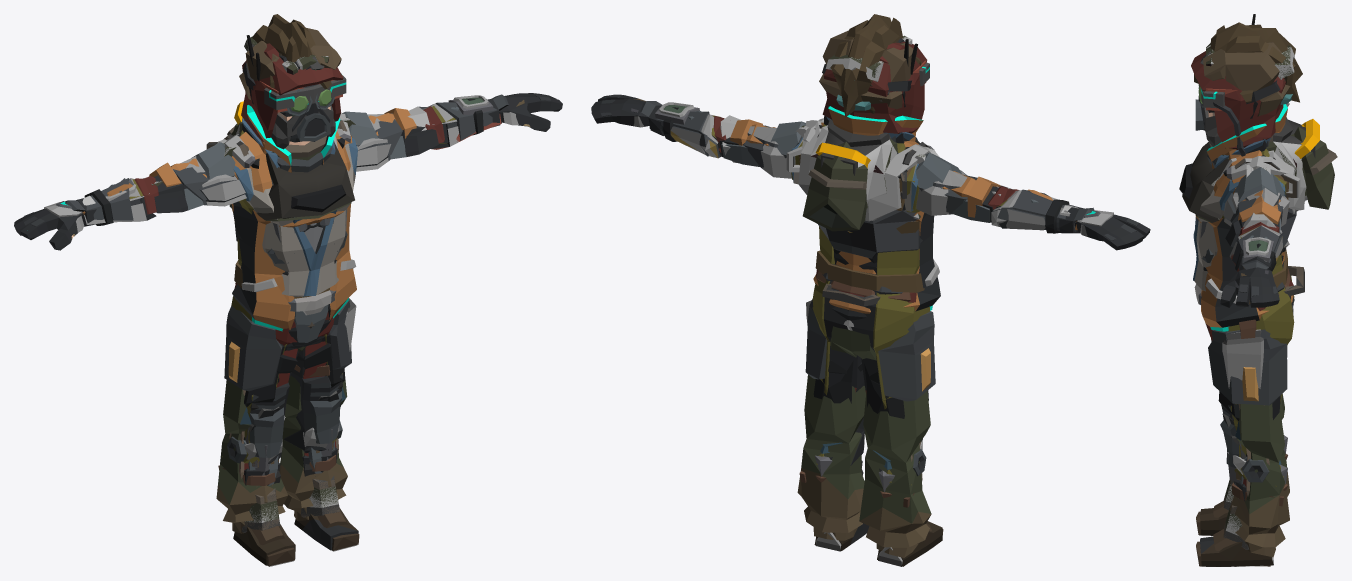
Rendered from Zoe_Survival_Characters.fbx.
The picture shows the model from 3 angles, left to right: view 1: azimuth 30°, elevation 25°; view 2: azimuth 150°, elevation 25°; view 3: azimuth 270°, elevation 25°; orthographic projection.
Visible parts, largest first — view 1: Character_Garbage_Male_01, Character_Muscle_Male_01, Character_Cop_01, Character_CyberPunk_Male_01, Character_Junky_Male_01, Character_Augmented_Male_01, Character_Robot_04, Character_Robot_02, Character_Hacker_Female_01, Character_Robot_01; view 2: Character_Junky_Male_01, Character_Garbage_Male_01, Character_Cop_01, Character_CyberPunk_Male_01, Character_Muscle_Male_01, Character_Augmented_Male_01, Character_Robot_02, Character_Robot_01, Character_Hacker_Female_01; view 3: Character_Garbage_Male_01, Character_Junky_Male_01, Character_CyberPunk_Male_01, Character_Cop_01, Character_Augmented_Male_01, Character_Muscle_Male_01, Character_Robot_02, Character_Robot_01, Character_Robot_04, Character_Hacker_Female_01, Character_Robot_03.
Part boxes in pixels (bbox=[...]): Character_Garbage_Male_01: bbox=[14, 28, 562, 565]; Character_Muscle_Male_01: bbox=[24, 56, 549, 478]; Character_Cop_01: bbox=[65, 35, 508, 485]; Character_CyberPunk_Male_01: bbox=[82, 53, 493, 566]; Character_Junky_Male_01: bbox=[71, 43, 530, 533]; Character_Augmented_Male_01: bbox=[44, 14, 551, 566]; Character_Robot_04: bbox=[257, 141, 354, 220]; Character_Robot_02: bbox=[82, 36, 524, 531]; Character_Hacker_Female_01: bbox=[235, 73, 346, 461]; Character_Robot_01: bbox=[143, 40, 349, 532]; Character_Junky_Male_01: bbox=[688, 41, 1038, 566]; Character_Garbage_Male_01: bbox=[591, 30, 1150, 566]; Character_Cop_01: bbox=[640, 39, 1094, 418]; Character_CyberPunk_Male_01: bbox=[655, 41, 1077, 475]; Character_Muscle_Male_01: bbox=[601, 91, 1138, 480]; Character_Augmented_Male_01: bbox=[601, 14, 1113, 566]; Character_Robot_02: bbox=[634, 35, 932, 300]; Character_Robot_01: bbox=[649, 37, 1009, 330]; Character_Hacker_Female_01: bbox=[816, 60, 1069, 563]; Character_Garbage_Male_01: bbox=[1195, 42, 1294, 566]; Character_Junky_Male_01: bbox=[1191, 51, 1293, 566]; Character_CyberPunk_Male_01: bbox=[1199, 79, 1307, 566]; Character_Cop_01: bbox=[1195, 14, 1296, 484]; Character_Augmented_Male_01: bbox=[1194, 22, 1302, 566]; Character_Muscle_Male_01: bbox=[1193, 51, 1289, 496]; Character_Robot_02: bbox=[1195, 43, 1337, 548]; Character_Robot_01: bbox=[1206, 45, 1315, 549]; Character_Robot_04: bbox=[1179, 142, 1229, 222]; Character_Hacker_Female_01: bbox=[1195, 84, 1294, 566]; Character_Robot_03: bbox=[1206, 63, 1319, 167].
Size of the model in its own units: 205 by 190 by 52.1.
Materials: 2 (1 with a texture image).
